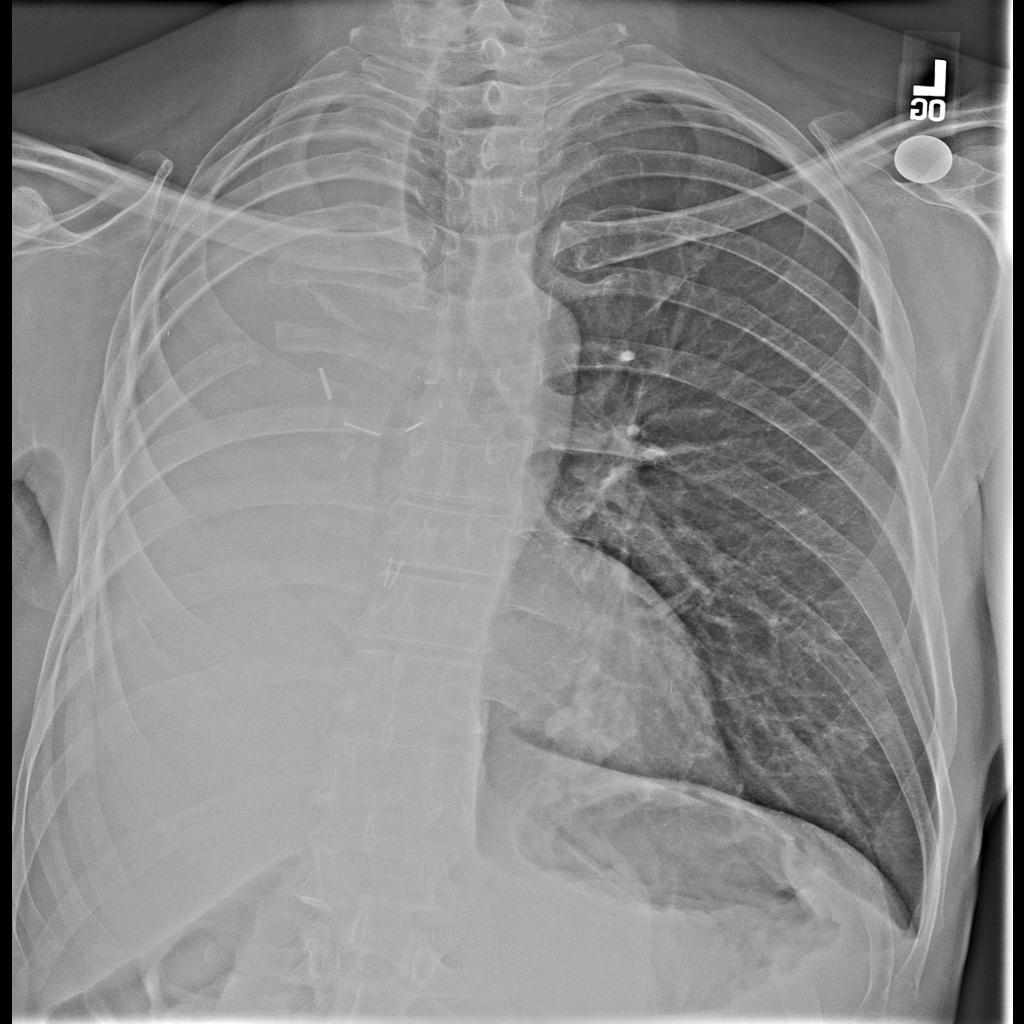Nodule: (536, 665, 645, 768)
